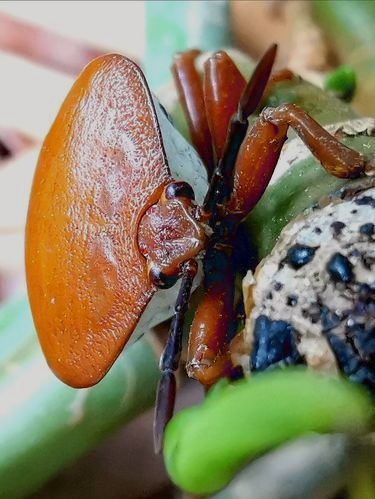Stink_Bug: (33, 47, 375, 400)
